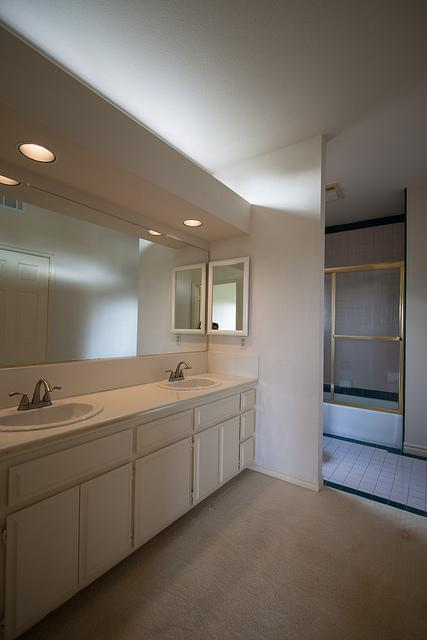Ducha: (282, 260, 404, 448)
Lavamanos: (0, 371, 108, 439), (158, 356, 222, 392)
